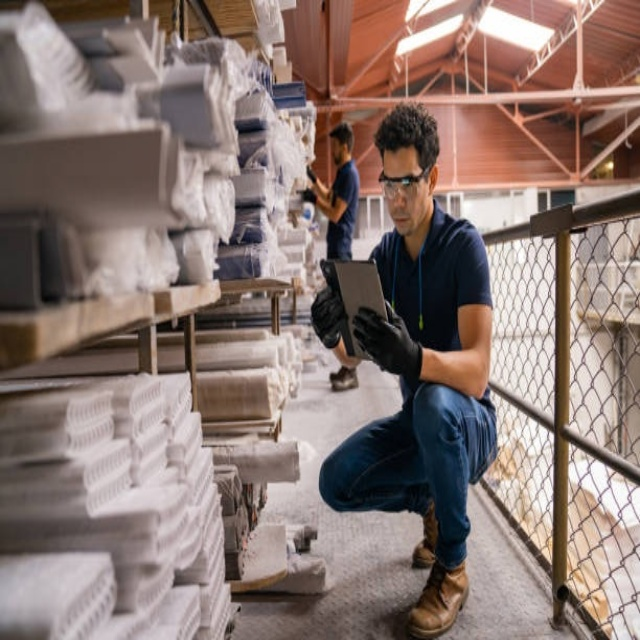Gafas: (379, 164, 431, 200)
Guantes: (349, 303, 427, 384), (310, 279, 343, 347)
Sin_mascara: (388, 205, 413, 231)
